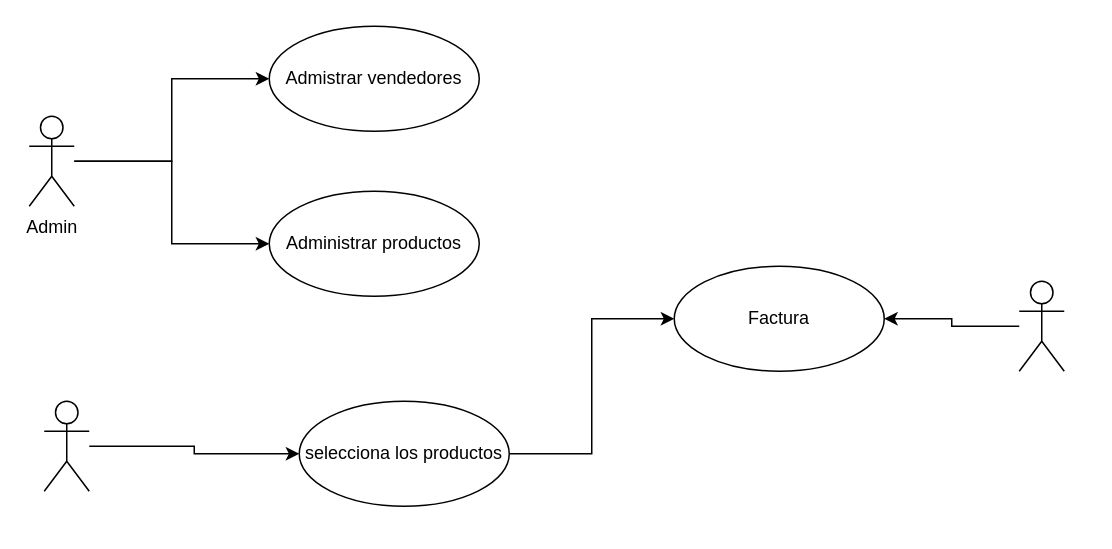
Some shapes in this 1112 by 549 pixel diagram are drawn without their labels. Each missing label, with the box of its shape:
Comprador: (1018, 280, 1064, 371)
Vendedor: (43, 400, 89, 491)
